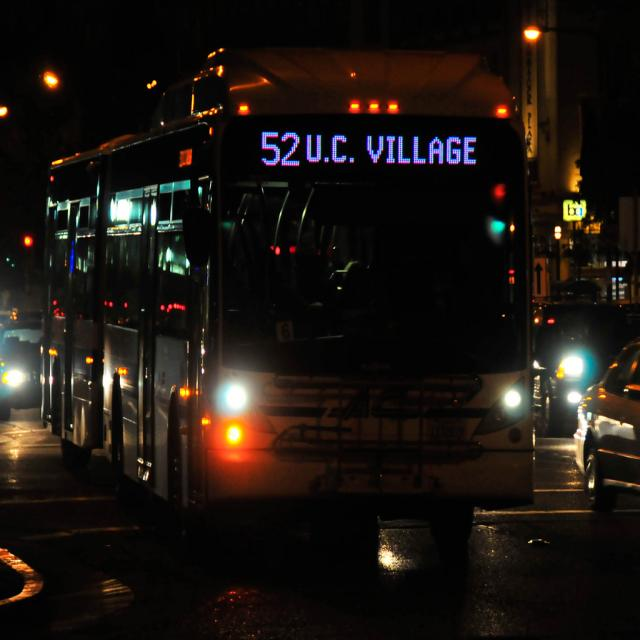Bus: (34, 99, 542, 572)
car: (543, 288, 640, 420), (0, 306, 29, 427)
